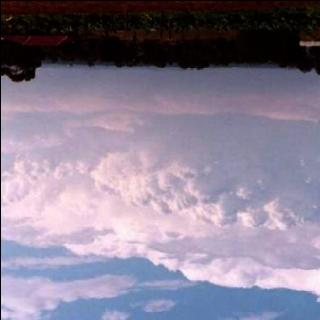Stratus: (0, 87, 320, 320)
